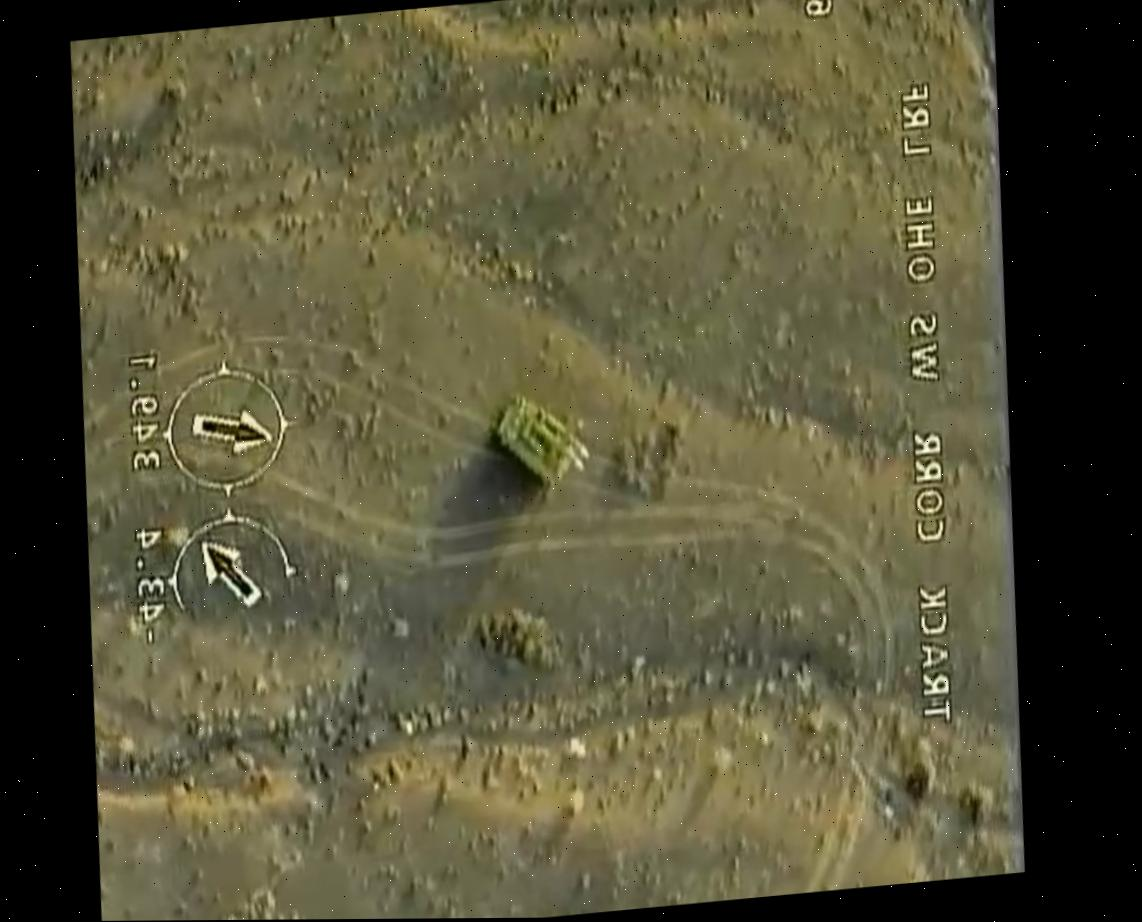armored_car: (478, 383, 598, 495)
